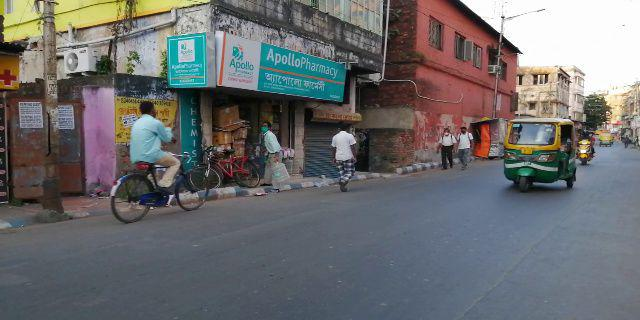Autorickshaw: (500, 116, 578, 193)
Cycle: (104, 102, 211, 223), (189, 142, 258, 190)
Motorbike: (577, 126, 594, 170)
